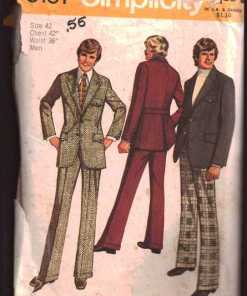feet: (93, 226, 168, 258), (166, 251, 220, 294), (26, 259, 97, 291)
